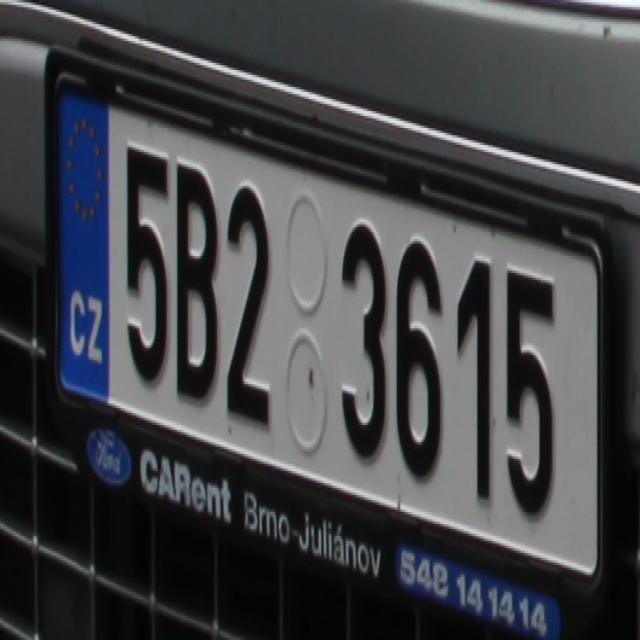1: (456, 248, 495, 510)
2: (226, 181, 273, 425)
3: (339, 215, 386, 454)
5: (501, 266, 558, 512), (122, 135, 169, 382)
6: (392, 237, 444, 488)
B: (169, 152, 218, 403)
